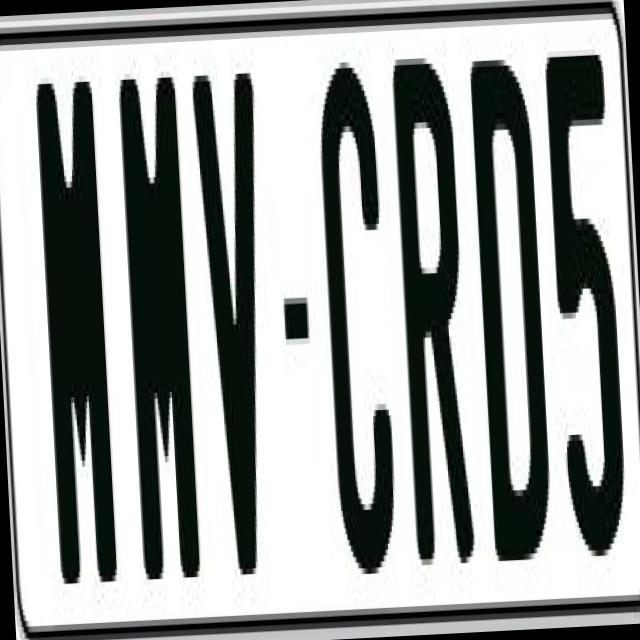5: (541, 37, 629, 563)
C: (315, 61, 398, 587)
D: (466, 47, 560, 585)
M: (115, 77, 205, 580), (30, 82, 116, 596)
R: (388, 51, 473, 589)
V: (187, 73, 279, 576)
